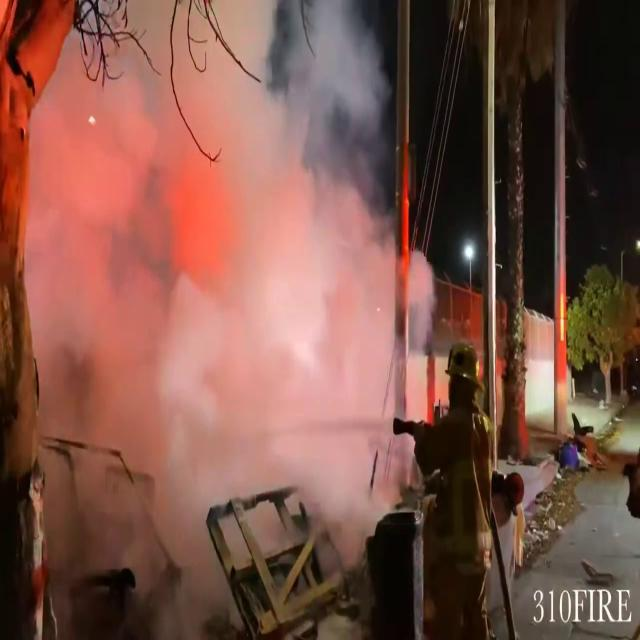Smoke: (0, 0, 419, 620)
